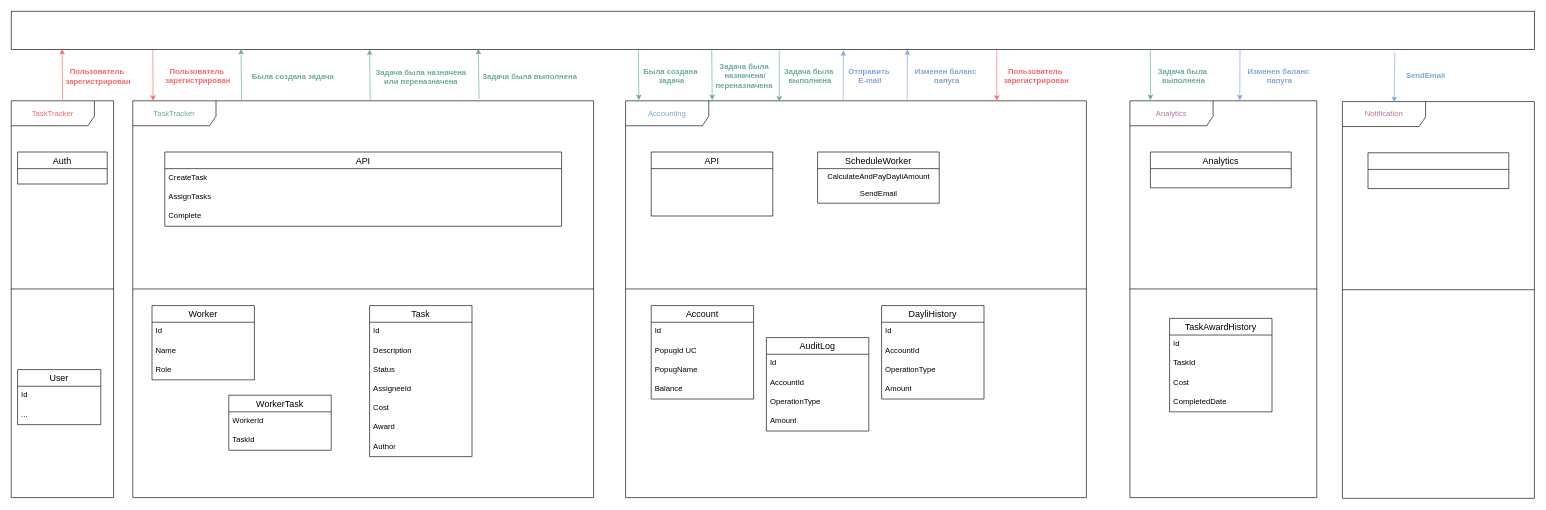
Image size: 1546x510. Some labels were removed from this diagram. The shapes that lost their labels are listed below. From the top down, each one's centre as x and y in pixels, then its label:
At point 772,30: "Message Broker".
At point 1438,170: "NotificationWorker".
